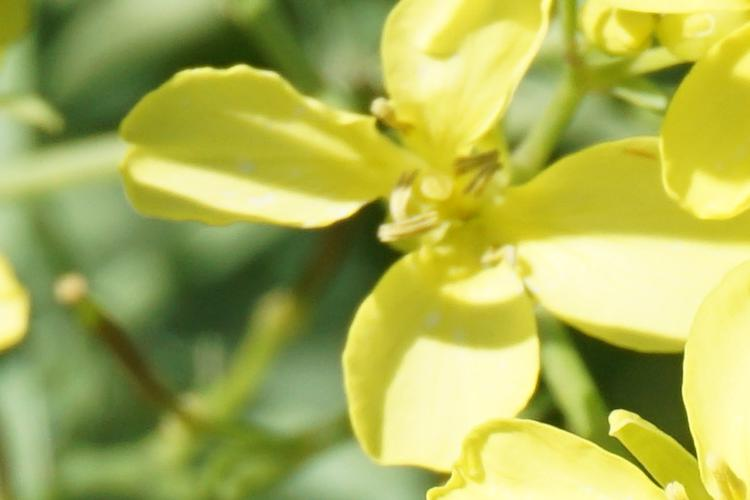pod: (30, 274, 202, 438)
yellow: (143, 8, 706, 422)
